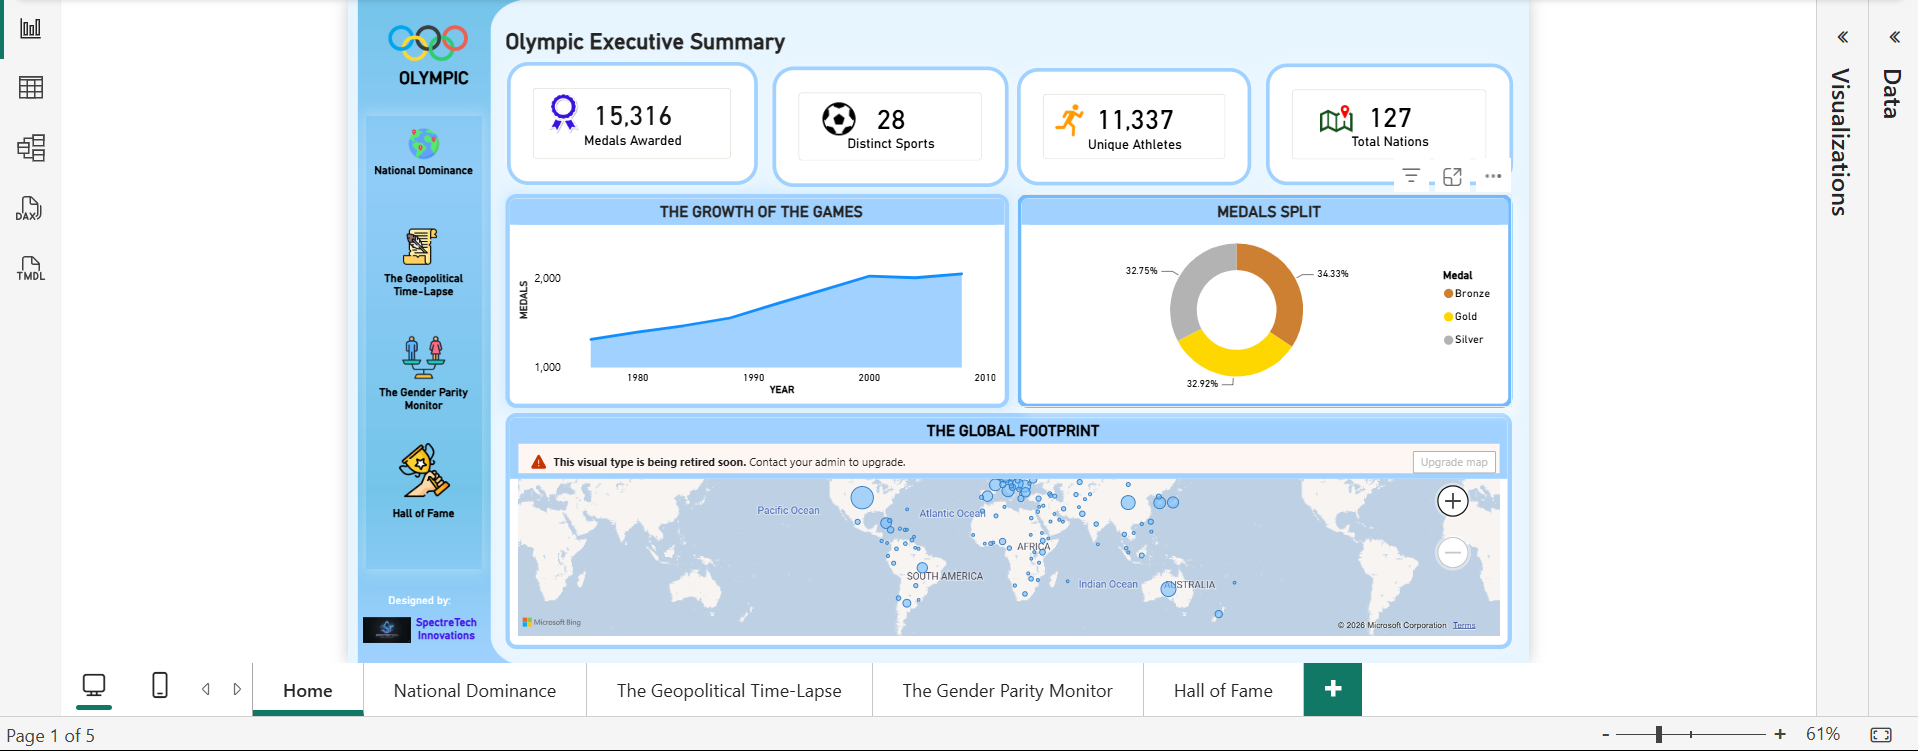

What the dashboard file says about the page in this screenshot:
{"tool":"powerbi","page":{"name":"Home","canvas":[1280,720],"ordinal":0},"visuals":[{"type":"cardVisual","fields":{"Data":["Medals.Card Toatal Medals"]},"box":[171.7,68.3,271.7,133.3],"z":0},{"type":"textbox","box":[166.1,25.4,435.6,40.7],"z":1000},{"type":"image","box":[210,91.7,48.3,65],"z":2000},{"type":"cardVisual","fields":{"Data":["Host Impact Table.Unique Athlete1"]},"box":[725.4,74.6,254.2,127.1],"z":3000},{"type":"cardVisual","fields":{"Data":["Count(Medals.Country)"]},"box":[994.9,69.5,267.8,132.2],"z":4000},{"type":"image","box":[1053.3,101.7,35,55],"z":5000},{"type":"cardVisual","fields":{"Data":["Count(Medals.Sport)"]},"box":[461,72.9,255.9,130.5],"z":6000},{"type":"image","box":[508.3,106.7,46.7,45],"z":7000},{"type":"image","box":[760,111.7,45,38.3],"z":8000},{"type":"map","title":"THE GLOBAL FOOTPRINT","fields":{"Category":["Medals.Country"],"Size":["Medals.Total Medals"]},"box":[171.2,449.2,1091.5,255.9],"z":9000},{"type":"areaChart","title":"THE GROWTH OF THE GAMES","fields":{"Category":["Medals.Year"],"Y":["Medals.Total Medals"]},"box":[171.2,210.7,545.8,232.2],"z":10000},{"type":"donutChart","title":"MEDALS SPLIT","fields":{"Category":["Medals.Medal"],"Y":["Medals.Total Medals"]},"box":[725.4,210.7,537.3,232.2],"z":11000},{"type":"image","box":[32.5,4.9,107.4,97.6],"z":12000},{"type":"image","box":[0,0,209.8,720.6],"z":13000},{"type":"image","box":[32.5,4.9,109,86.2],"z":14000},{"type":"pageNavigator","box":[19.5,126.9,125.2,491.2],"z":15000},{"type":"image","box":[58.6,139.9,47.2,34.2],"z":16000},{"type":"image","box":[50.4,248.9,55.3,39],"z":17000},{"type":"image","box":[48.8,362.7,66.7,52],"z":18000},{"type":"image","box":[39,481.5,87.8,58.6],"z":19000},{"type":"textbox","box":[50.4,68.3,113.9,52],"z":20000},{"type":"shape","box":[33.3,630,90,45],"z":21000},{"type":"shape","box":[61.7,660,90,45],"z":22000},{"type":"image","box":[16.7,663.3,51.7,41.7],"z":23000}]}

Visuals, with their boxes on the page's 1280x720 design canvas (x1, y1, x2, y2). These are canvas units, not pixel positions in the 1918x751 screenshot, which may show the page scaled, cropped or inside an application window:
cardVisual - Medals.Card Toatal Medals: l=172, t=68, r=443, b=202
textbox: l=166, t=25, r=602, b=66
image: l=210, t=92, r=258, b=157
cardVisual - Host Impact Table.Unique Athlete1: l=725, t=75, r=980, b=202
cardVisual - Count(Medals.Country): l=995, t=70, r=1263, b=202
image: l=1053, t=102, r=1088, b=157
cardVisual - Count(Medals.Sport): l=461, t=73, r=717, b=203
image: l=508, t=107, r=555, b=152
image: l=760, t=112, r=805, b=150
"THE GLOBAL FOOTPRINT" map: l=171, t=449, r=1263, b=705
"THE GROWTH OF THE GAMES" areaChart: l=171, t=211, r=717, b=443
"MEDALS SPLIT" donutChart: l=725, t=211, r=1263, b=443
image: l=32, t=5, r=140, b=102
image: l=0, t=0, r=210, b=721
image: l=32, t=5, r=142, b=91
pageNavigator: l=20, t=127, r=145, b=618
image: l=59, t=140, r=106, b=174
image: l=50, t=249, r=106, b=288
image: l=49, t=363, r=116, b=415
image: l=39, t=482, r=127, b=540
textbox: l=50, t=68, r=164, b=120
shape: l=33, t=630, r=123, b=675
shape: l=62, t=660, r=152, b=705
image: l=17, t=663, r=68, b=705
